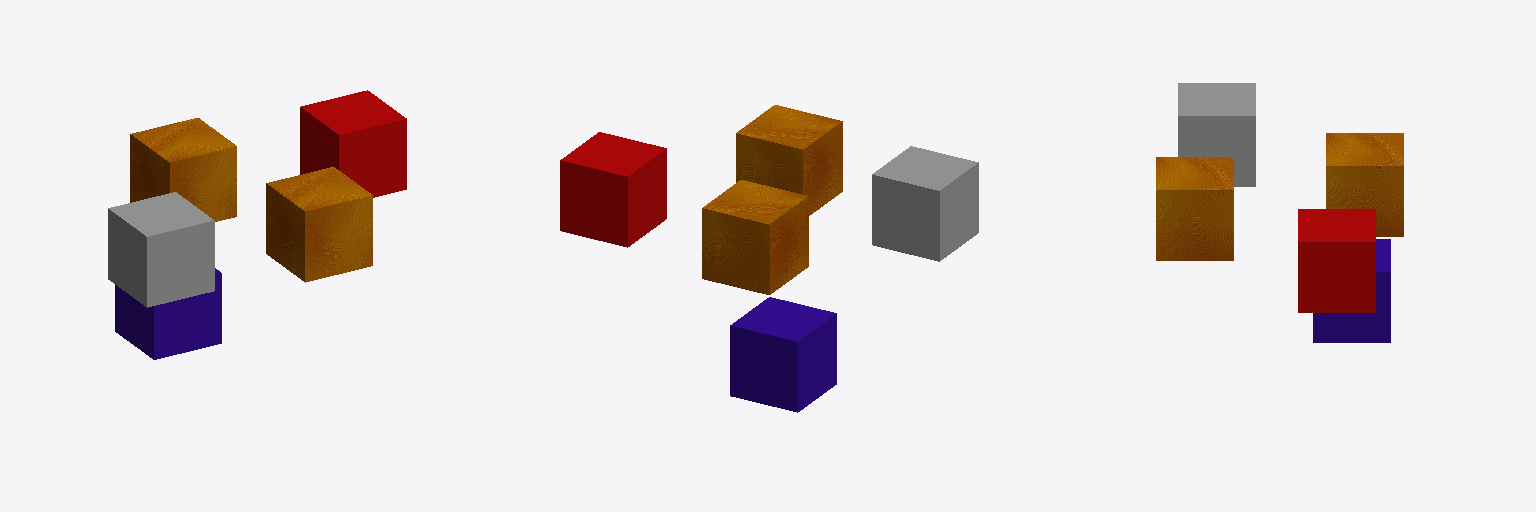
3 views of the same model, side by side, from view 1: azimuth 30°, elevation 25°; view 2: azimuth 150°, elevation 25°; view 3: azimuth 270°, elevation 25° (orthographic).
Size of the model in its own units: 9.45 by 5.38 by 6.34.
Materials: 4 (1 with a texture image).